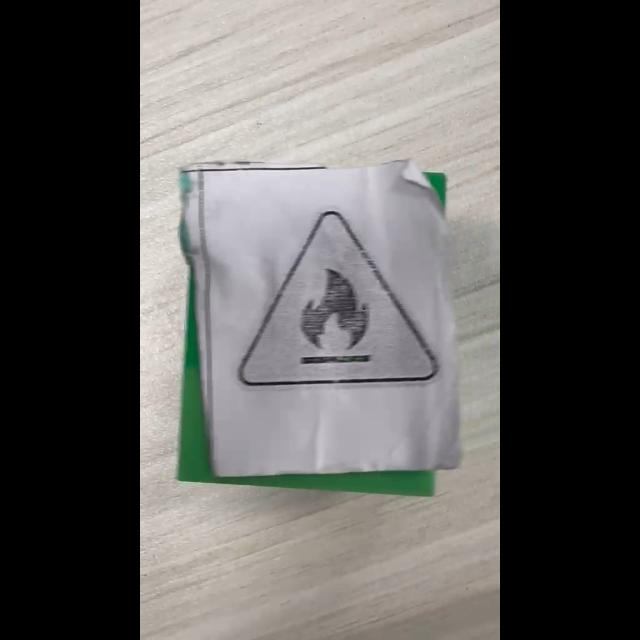Fire: (238, 211, 438, 386)
